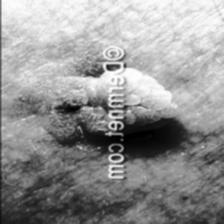Toxin: (124, 68, 196, 156), (32, 63, 104, 150)
